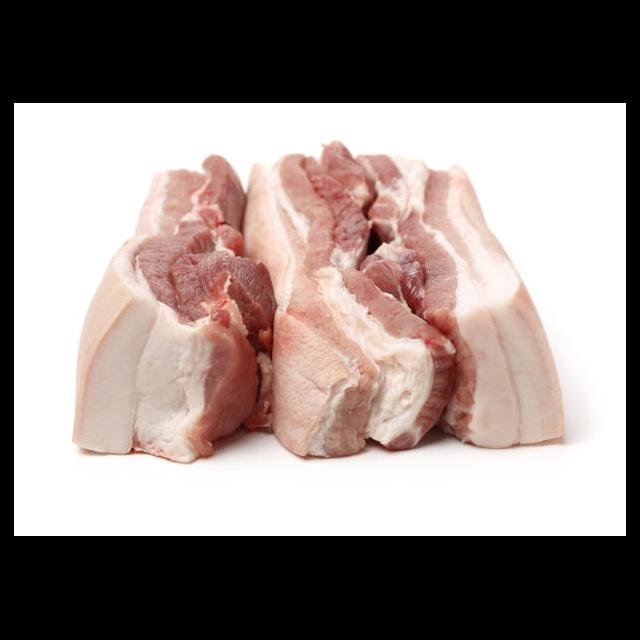pork: (71, 148, 258, 461), (261, 140, 447, 453), (395, 152, 562, 448)
